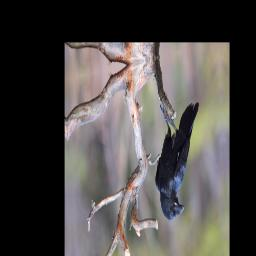Crow: (152, 96, 206, 225)
